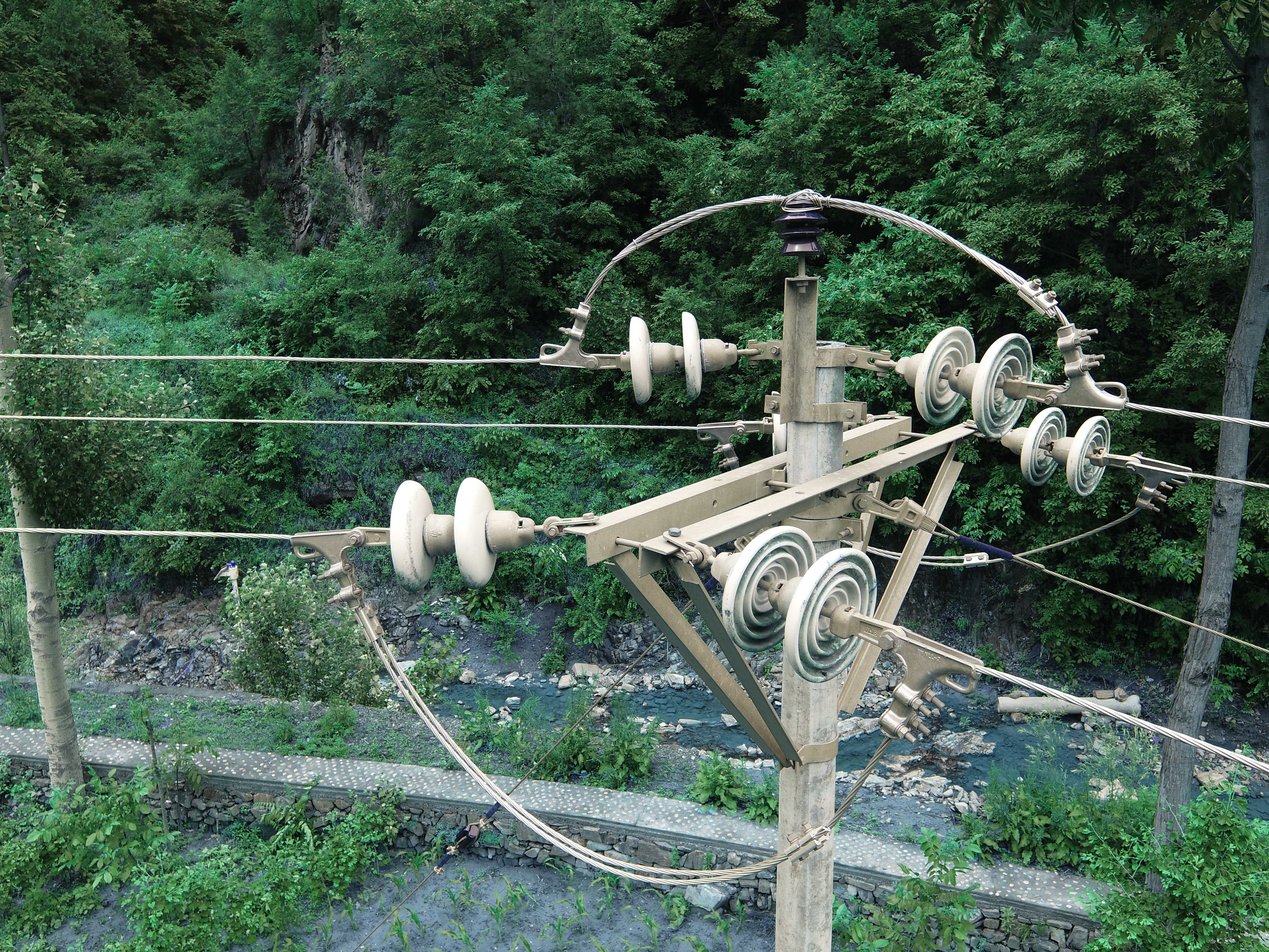severe_soiling_no_discharge_whole: (709, 524, 883, 691), (380, 474, 541, 594), (897, 324, 1037, 439), (624, 305, 741, 410), (1002, 404, 1117, 499)
